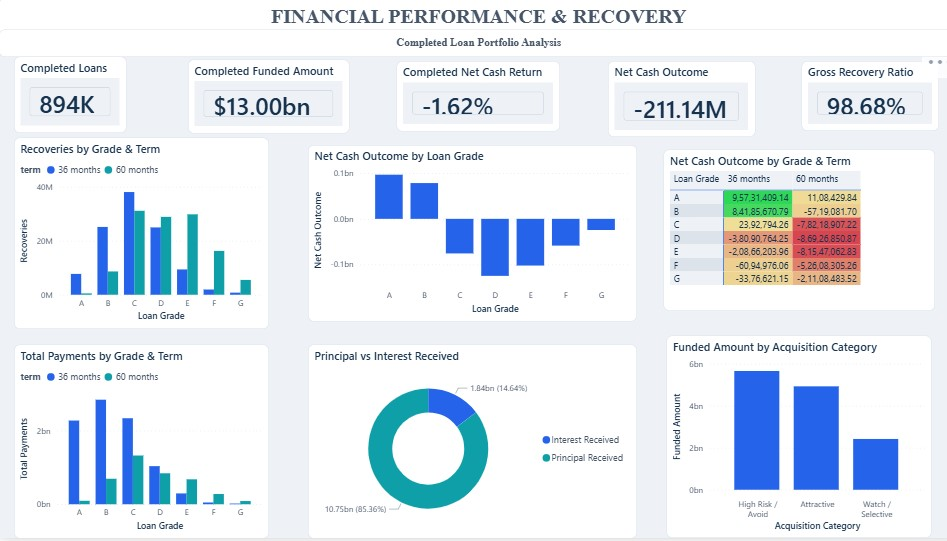

The page's visual inventory and layout, read from the dashboard file:
{"tool":"powerbi","page":{"name":" Performance","canvas":[1280,720],"ordinal":1},"visuals":[{"type":"cardVisual","title":"Completed Loans","fields":{"Data":["Sum(Completed_Financial.completed_loans)"]},"box":[20,78.3,150,101.7],"z":0},{"type":"cardVisual","title":"Completed Funded Amount","fields":{"Data":["Sum(Completed_Financial.funded_amount)"]},"box":[251.4,81.8,215,98.4],"z":1000},{"type":"cardVisual","title":"Net Cash Outcome","fields":{"Data":["Sum(Completed_Financial.net_cash_outcome)"]},"box":[811.6,83.3,196.8,101.5],"z":2000},{"type":"cardVisual","title":"Completed Net Cash Return","fields":{"Data":["Completed_Financial.Completed Net Cash Return"]},"box":[530,83.3,218,93.9],"z":3000},{"type":"clusteredColumnChart","title":"Funded Amount by Acquisition Category","fields":{"Category":["Acquisition.acquisition_category"],"Y":["Sum(Acquisition.funded_amount)"]},"box":[890,450,353.3,270],"z":4000},{"type":"clusteredColumnChart","title":"Total Payments by Grade & Term","fields":{"Category":["Grade_Term.grade"],"Y":["Sum(Grade_Term.total_payments)"],"Series":["Grade_Term.term"]},"box":[20,461.7,340,258.3],"z":5000},{"type":"clusteredColumnChart","title":"Recoveries by Grade & Term","fields":{"Category":["Grade_Term.grade"],"Y":["Sum(Grade_Term.recoveries)"],"Series":["Grade_Term.term"]},"box":[20,185,340,255],"z":6000},{"type":"clusteredColumnChart","title":"Net Cash Outcome by Loan Grade","fields":{"Category":["Grade_Term.grade"],"Y":["Sum(Grade_Term.net_cash_outcome)"]},"box":[411.7,195,438.3,235],"z":7000},{"type":"cardVisual","title":"Gross Recovery Ratio","fields":{"Data":["Completed_Financial.Gross Recovery Ratio"]},"box":[1070,83.3,183.3,93.3],"z":8000},{"type":"donutChart","title":"Principal vs Interest Received","fields":{"Y":["Sum(Completed_Financial.interest_received)","Sum(Completed_Financial.principal_received)"]},"box":[411.7,461.7,438.3,258.3],"z":9000},{"type":"pivotTable","title":"Net Cash Outcome by Grade & Term","fields":{"Rows":["Grade_Term.grade"],"Columns":["Grade_Term.term"],"Values":["Sum(Grade_Term.net_cash_outcome)"]},"box":[885,201.7,361.7,215],"z":10000},{"type":"textbox","box":[0,0,1280,60],"z":11000},{"type":"textbox","box":[0,42.4,1279.5,36.3],"z":12000}]}

Visuals, with their boxes in screenshot pixels (x1, y1, x2, y2), scaled from the page's 1280x720 canvas onto the 947x541 screenshot:
"Completed Loans" cardVisual: left=15, top=59, right=126, bottom=135
"Completed Funded Amount" cardVisual: left=186, top=61, right=345, bottom=135
"Net Cash Outcome" cardVisual: left=600, top=63, right=746, bottom=139
"Completed Net Cash Return" cardVisual: left=392, top=63, right=553, bottom=133
"Funded Amount by Acquisition Category" clusteredColumnChart: left=658, top=338, right=920, bottom=540
"Total Payments by Grade & Term" clusteredColumnChart: left=15, top=347, right=266, bottom=540
"Recoveries by Grade & Term" clusteredColumnChart: left=15, top=139, right=266, bottom=331
"Net Cash Outcome by Loan Grade" clusteredColumnChart: left=305, top=147, right=629, bottom=323
"Gross Recovery Ratio" cardVisual: left=792, top=63, right=927, bottom=133
"Principal vs Interest Received" donutChart: left=305, top=347, right=629, bottom=540
"Net Cash Outcome by Grade & Term" pivotTable: left=655, top=152, right=922, bottom=313
textbox: left=0, top=0, right=946, bottom=45
textbox: left=0, top=32, right=946, bottom=59
